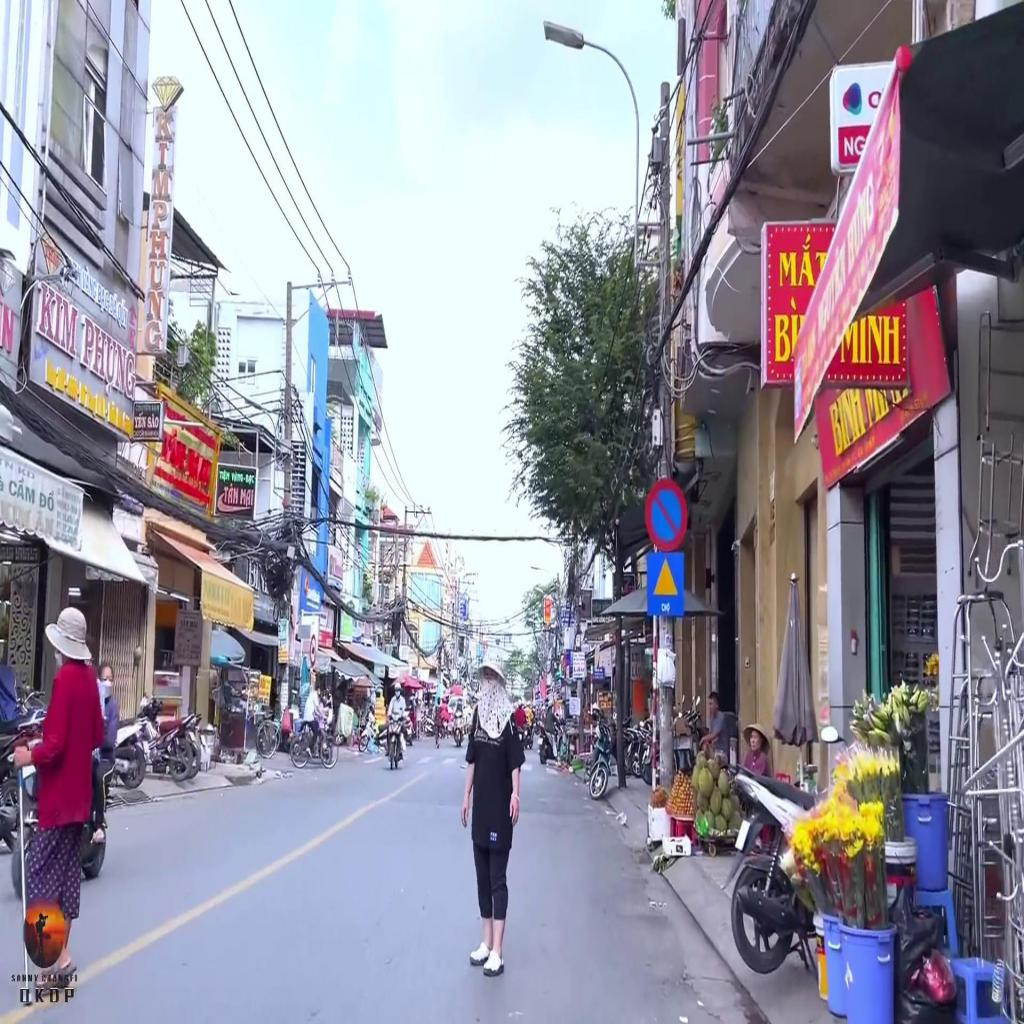cam_do_xe: (643, 474, 689, 553)
cho: (646, 551, 685, 616)
